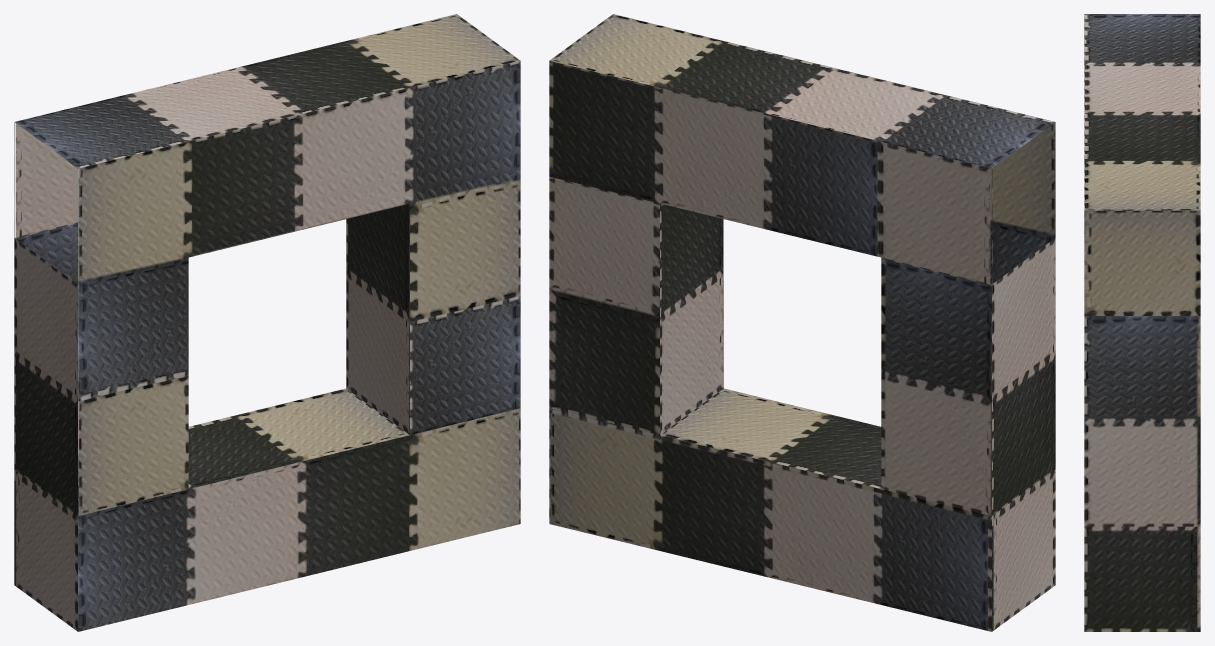
The model's file is 2X2square.dae.
The picture shows the model from 3 angles, left to right: view 1: azimuth 30°, elevation 25°; view 2: azimuth 150°, elevation 25°; view 3: azimuth 270°, elevation 25°; orthographic projection. The views are drawn at different scales.
Visible parts, largest first — view 1: 立方体; view 2: 立方体; view 3: 立方体.
Boxes of the visible parts, <box> form: 立方体: <box>14,14,520,631</box>; 立方体: <box>549,14,1055,631</box>; 立方体: <box>1084,14,1200,631</box>.
Size of the model in its own units: 1.2 by 0.3 by 1.2.
1 material, 1 textured.
